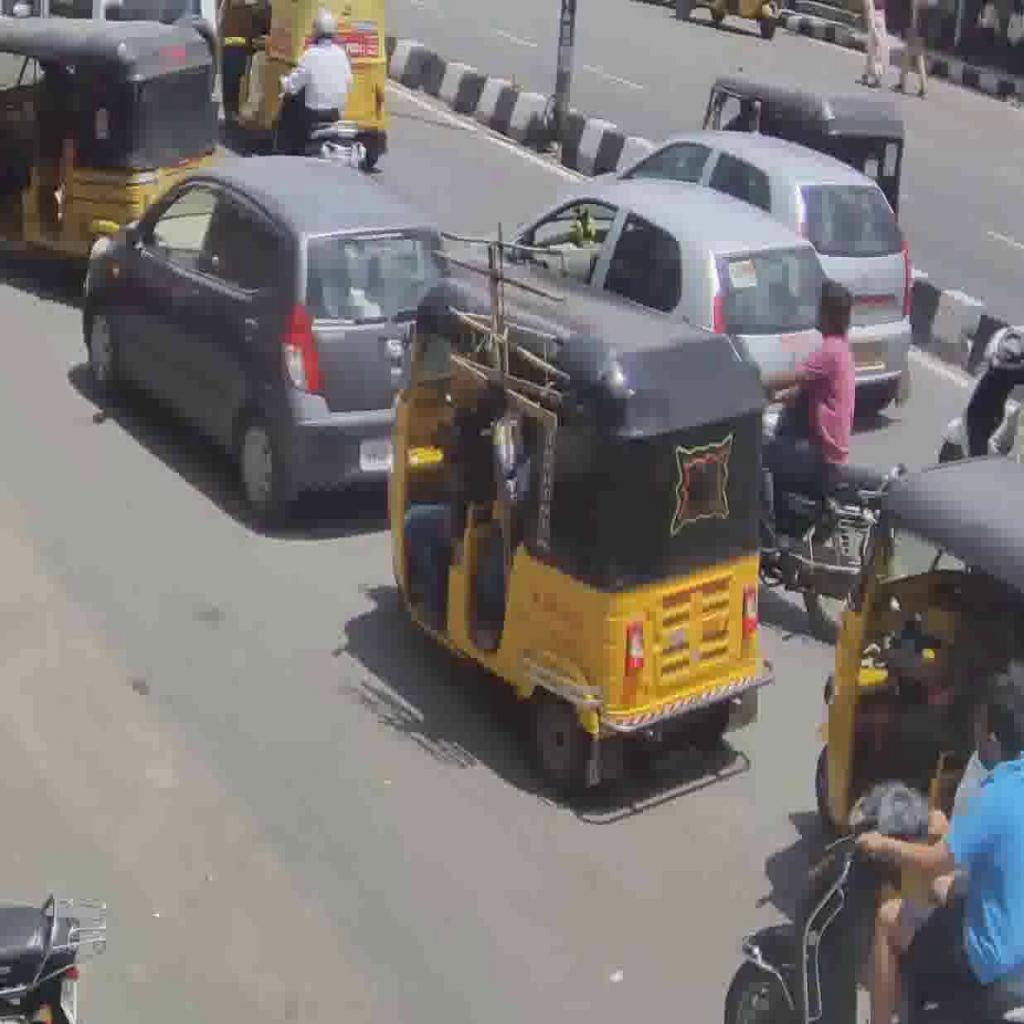helmet: (721, 772, 1024, 1024), (758, 419, 900, 644), (268, 64, 368, 170)
